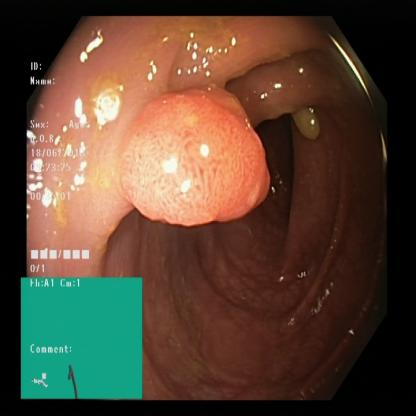Labels: (26, 57, 106, 278), (21, 278, 143, 402)
Polyps: (122, 98, 270, 219), (272, 66, 334, 145)
